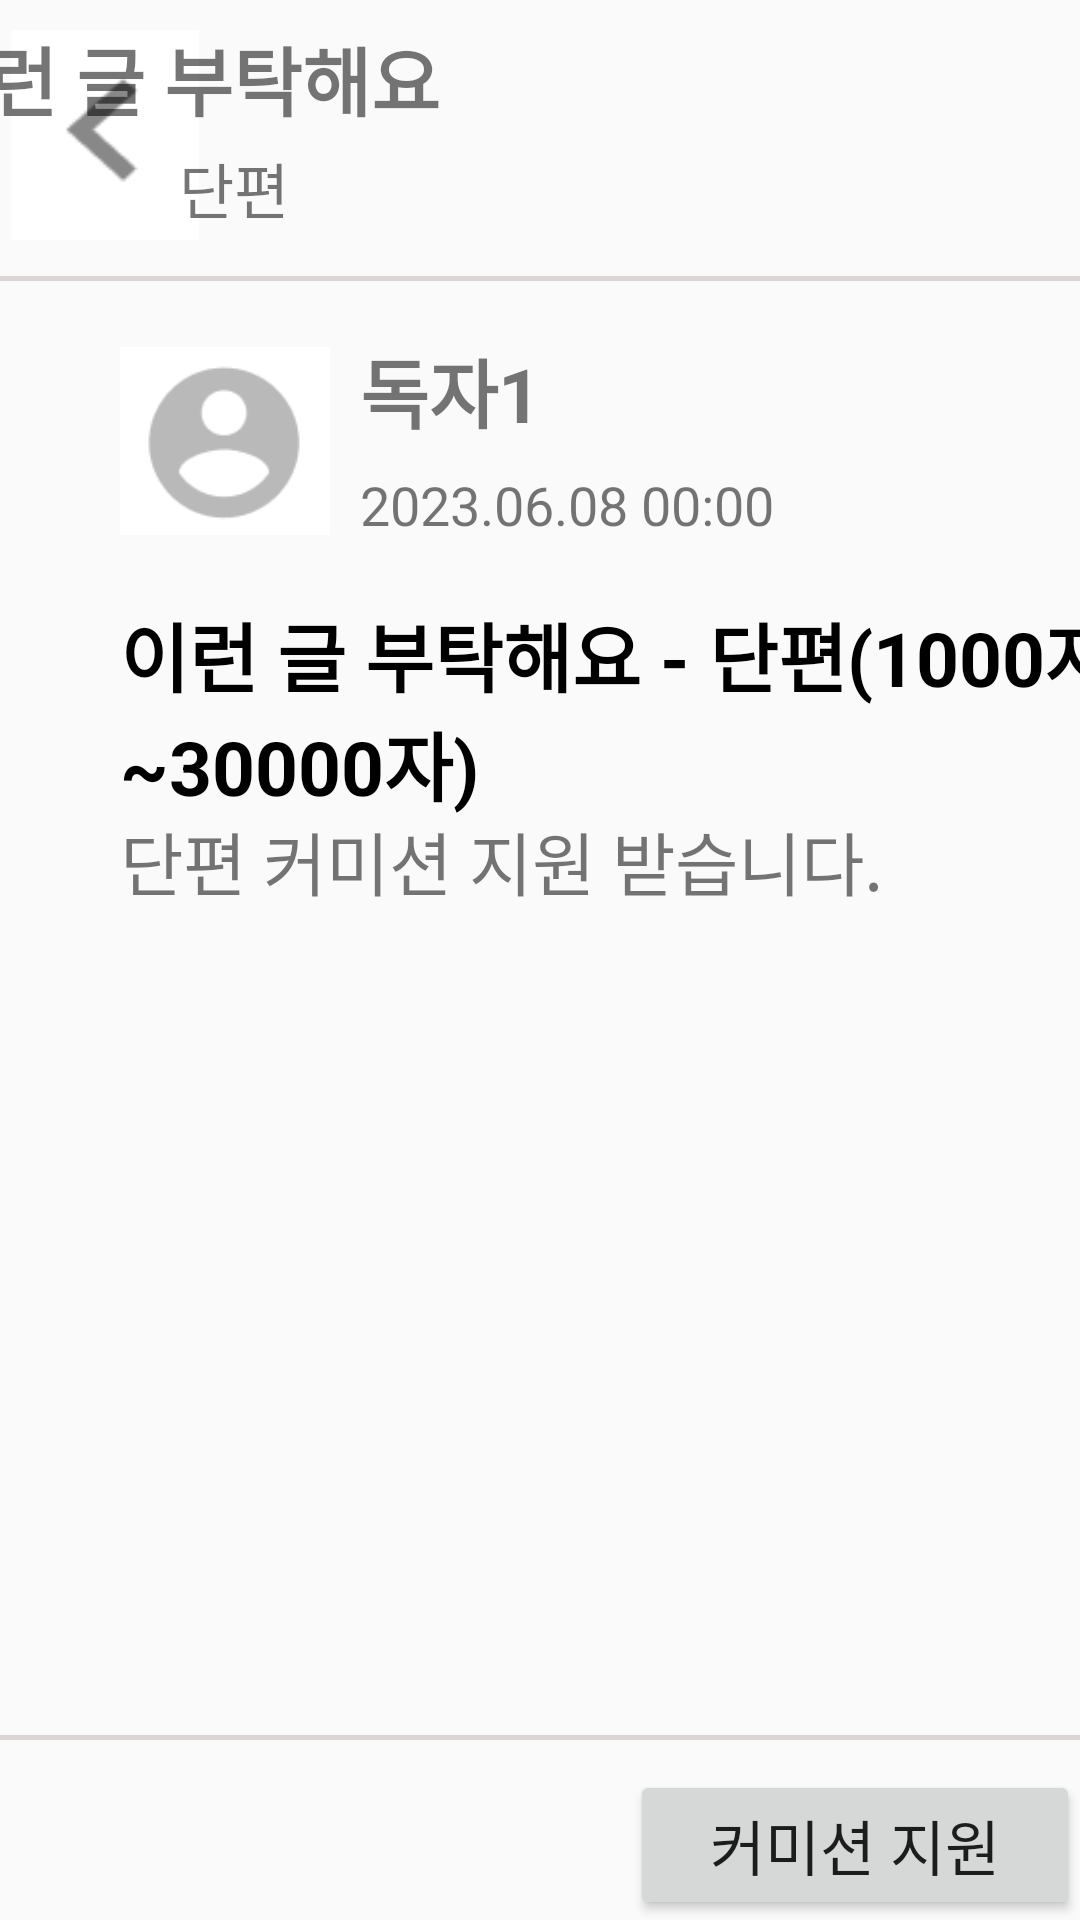

Point at icon controls on the screen. Image size 1080w x 1920h, points as [x,y].
profile: [224,443]
